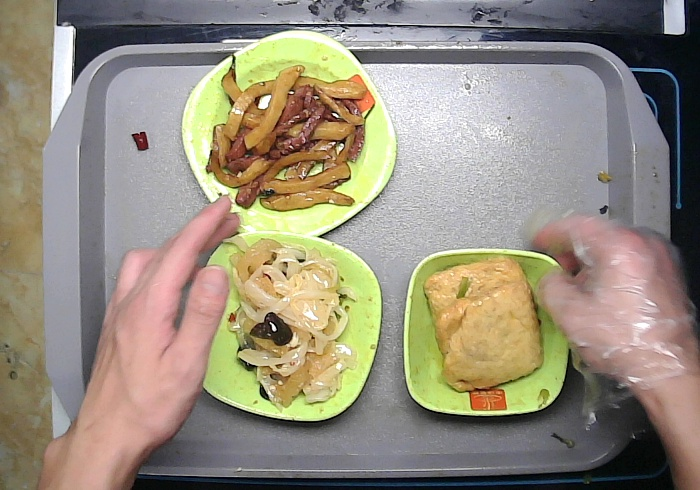SHKJ-Lv_Se_Cai_Die: (177, 231, 384, 425)
SHKJ-Lv_Se_Si_Fang_Cai_Die: (179, 30, 397, 241)
SHKJ-Lv_Se_Xiao_Fang_Die: (404, 247, 574, 418)
